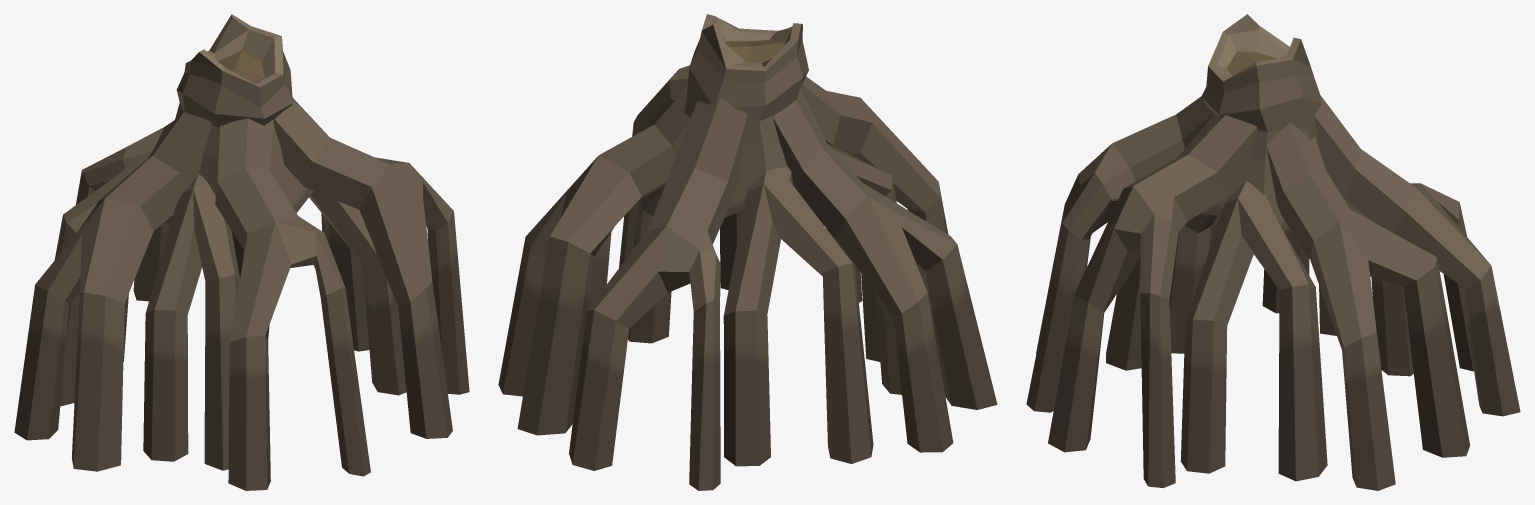
The model's file is bog_stump.gltf.
The picture shows the model from 3 angles, left to right: view 1: azimuth 30°, elevation 25°; view 2: azimuth 150°, elevation 25°; view 3: azimuth 270°, elevation 25°; orthographic projection. The views are drawn at different scales.
Parts seen in each view (by area): view 1: bog_stump; view 2: bog_stump; view 3: bog_stump.
Part boxes in pixels (x1,y1,x2,y2): bog_stump: (14,14,469,490); bog_stump: (498,14,997,490); bog_stump: (1026,14,1520,490).
Size of the model in its own units: 2.04 by 1.82 by 2.21.
Materials: 1 (1 with a texture image).
